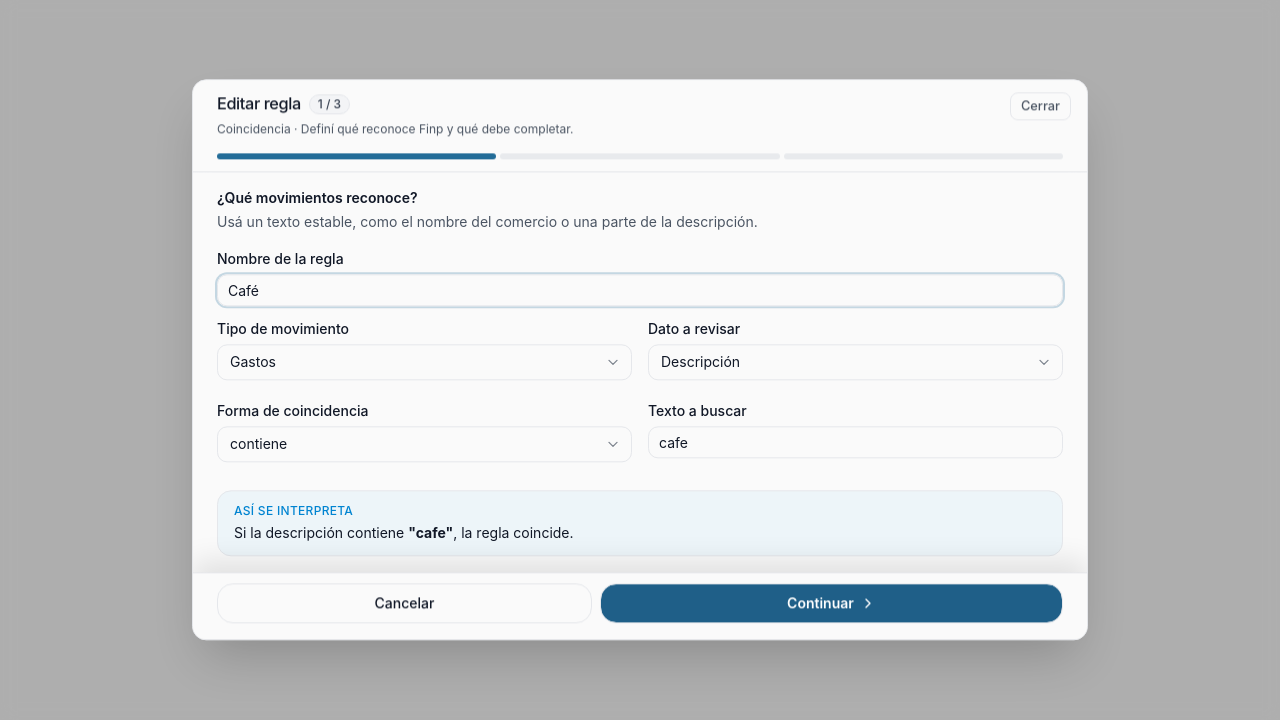
TransactionRuleDialog simulation › simulates without submitting and renders winner and conflicts
The image size is (1280, 720).
Click the button "Continuar" at point(831, 604), box [600,584,1063,624]
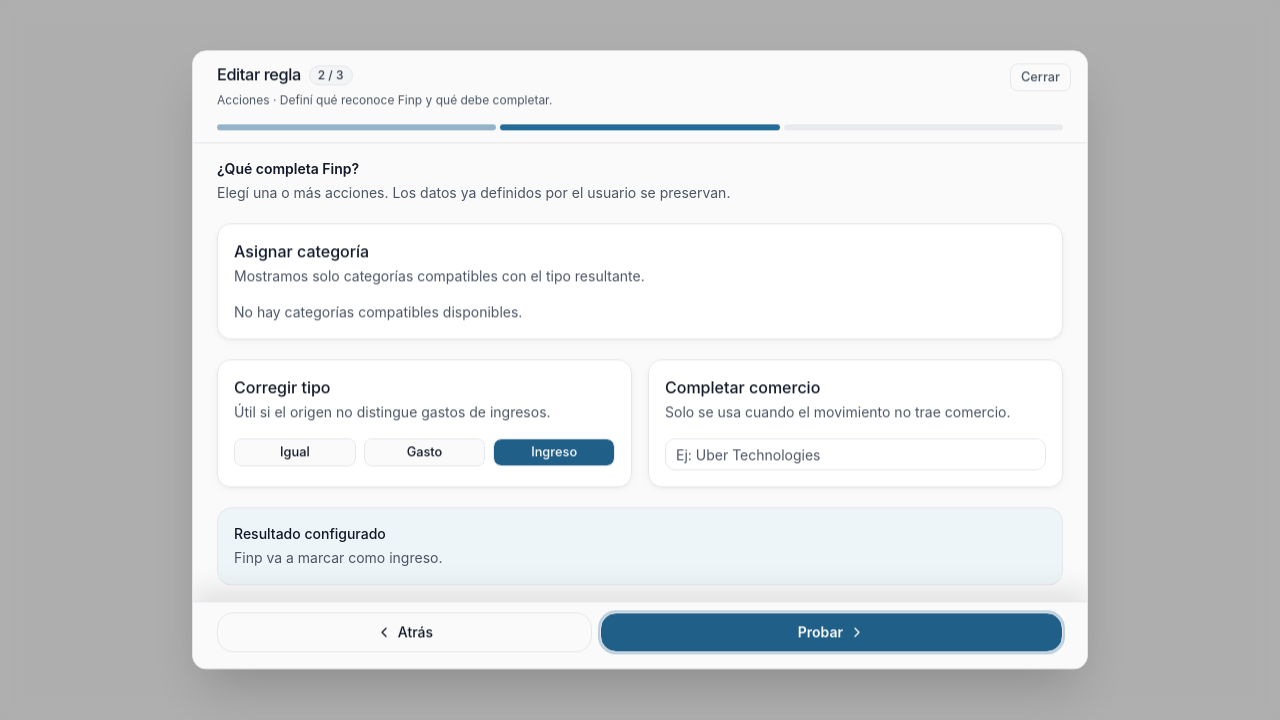
Click the button "Probar" at point(831, 633), box [600,613,1063,653]
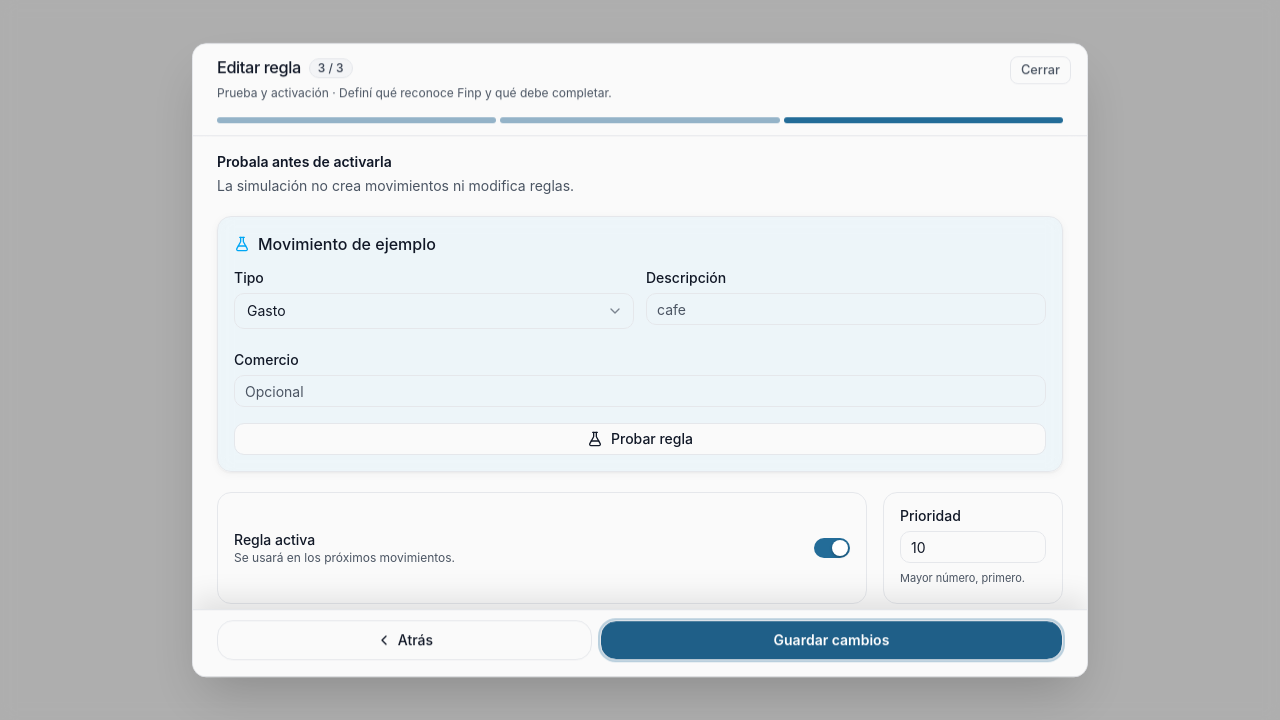
expect the button "Probar regla" is enabled: met
Click the button "Probar regla" at point(640, 440), box [234,424,1046,456]
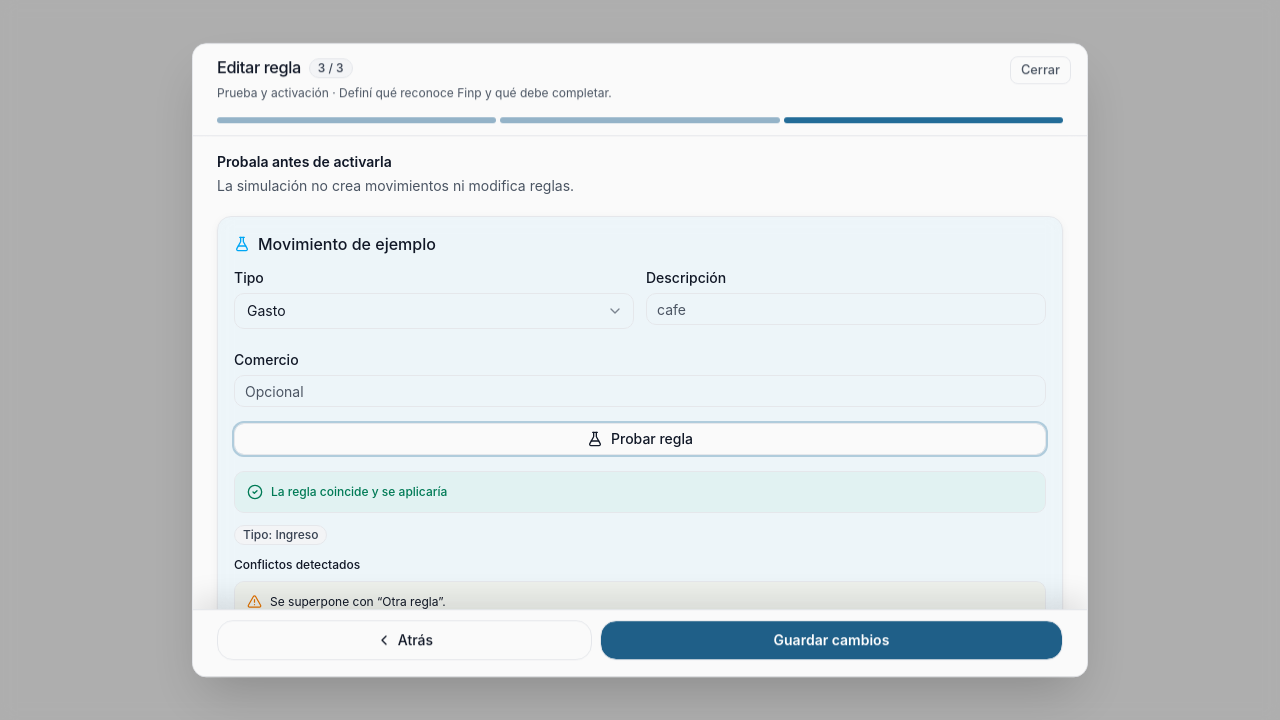
expect the text "La regla coincide y se aplicaría" is shown: met, box [271,484,447,500]
expect the text "Se superpone con “Otra regla”." is shown: met, box [270,594,446,609]
